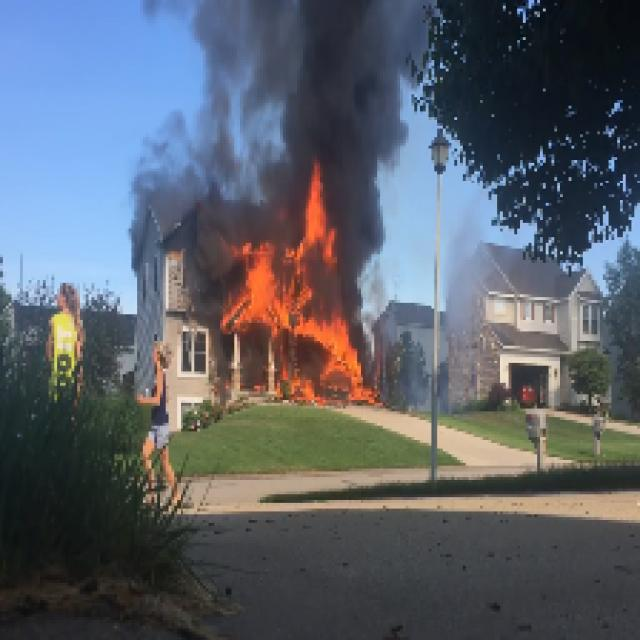fire: (225, 245, 376, 410), (294, 162, 336, 242)
smoke: (137, 0, 434, 157), (134, 163, 290, 241)
